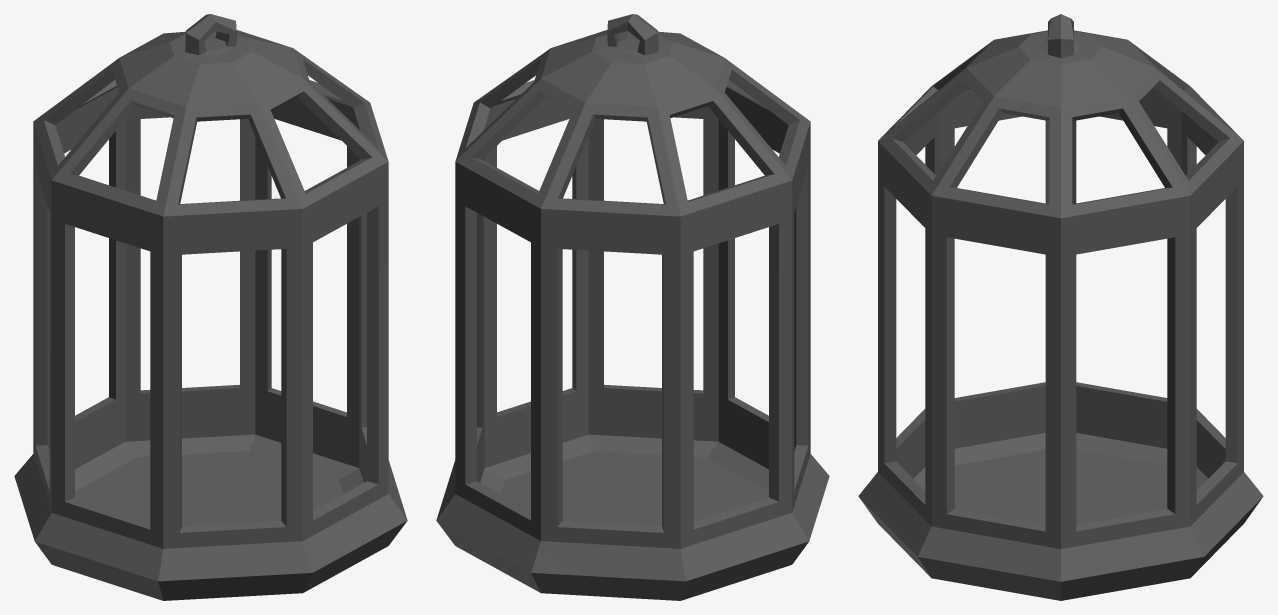
Rendered from Cage.fbx.
3 renders of one model, left to right at view 1: azimuth 30°, elevation 25°; view 2: azimuth 150°, elevation 25°; view 3: azimuth 270°, elevation 25°, orthographic.
Visible parts, largest first — view 1: Cage; view 2: Cage; view 3: Cage.
Part boxes in pixels (x1,y1,x2,y2): Cage: (14,14,407,600); Cage: (436,14,829,600); Cage: (858,14,1263,600).
Size of the model in its own units: 145 by 201 by 145.
